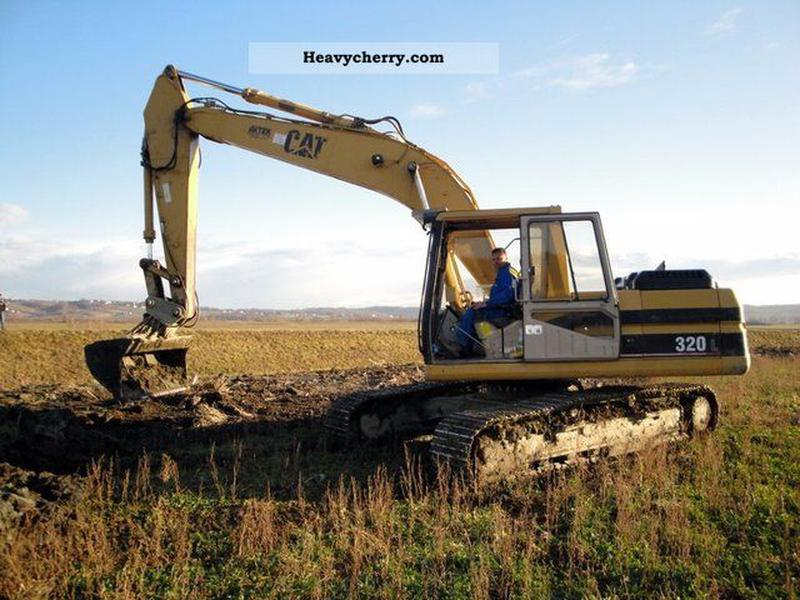shovel: (81, 62, 757, 496)
